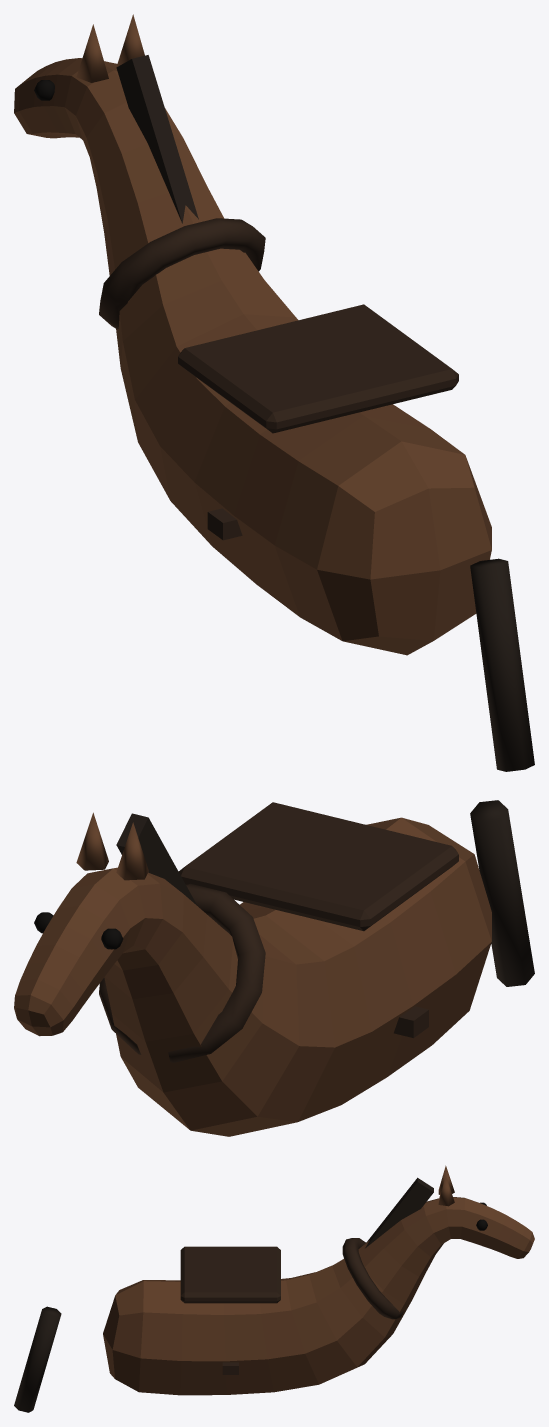
Rendered from horse.glb.
The picture shows the model from 3 angles, top to bottom: view 1: azimuth 30°, elevation 25°; view 2: azimuth 150°, elevation 25°; view 3: azimuth 270°, elevation 25°; orthographic projection. The views are drawn at different scales.
Parts seen in each view (by area): view 1: skin, Cube.001, Cylinder, Torus, Cube, Cone; view 2: skin, Cube.001, Cylinder, Torus, Cube, Cone, Cone.001, Cube.002; view 3: skin, Cube.001, Cylinder, Torus, Cube.
Part boxes in pixels (bbox=[...]): skin: bbox=[14, 58, 491, 655]; Cube.001: bbox=[178, 304, 458, 433]; Cylinder: bbox=[470, 558, 534, 771]; Torus: bbox=[99, 218, 265, 329]; Cube: bbox=[116, 55, 198, 223]; Cone: bbox=[76, 24, 108, 82]; skin: bbox=[14, 817, 491, 1136]; Cube.001: bbox=[178, 802, 458, 931]; Cylinder: bbox=[470, 800, 534, 986]; Torus: bbox=[99, 883, 265, 1062]; Cube: bbox=[116, 813, 197, 905]; Cone: bbox=[116, 822, 148, 880]; Cone.001: bbox=[76, 812, 108, 870]; Cube.002: bbox=[394, 1006, 428, 1038]; skin: bbox=[103, 1197, 534, 1395]; Cube.001: bbox=[180, 1246, 280, 1303]; Cylinder: bbox=[14, 1306, 61, 1412]; Torus: bbox=[342, 1238, 403, 1319]; Cube: bbox=[365, 1177, 433, 1248].
Size of the model in its own units: 0.62 by 1.32 by 2.59.
